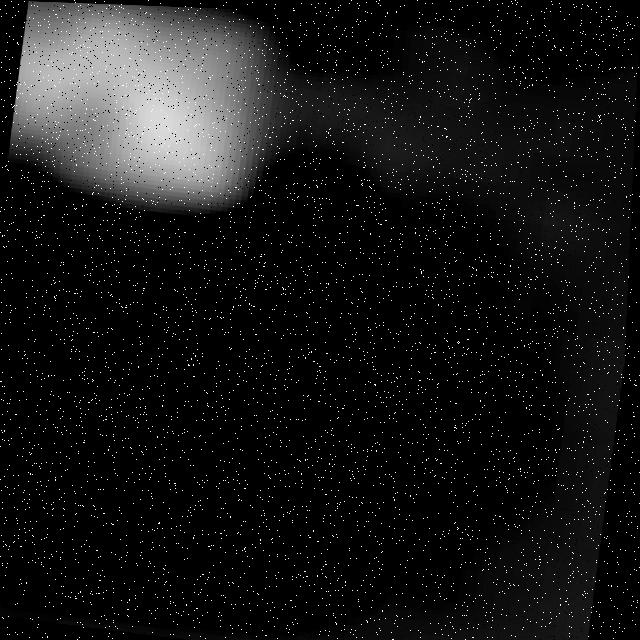person: (1, 1, 348, 270)
